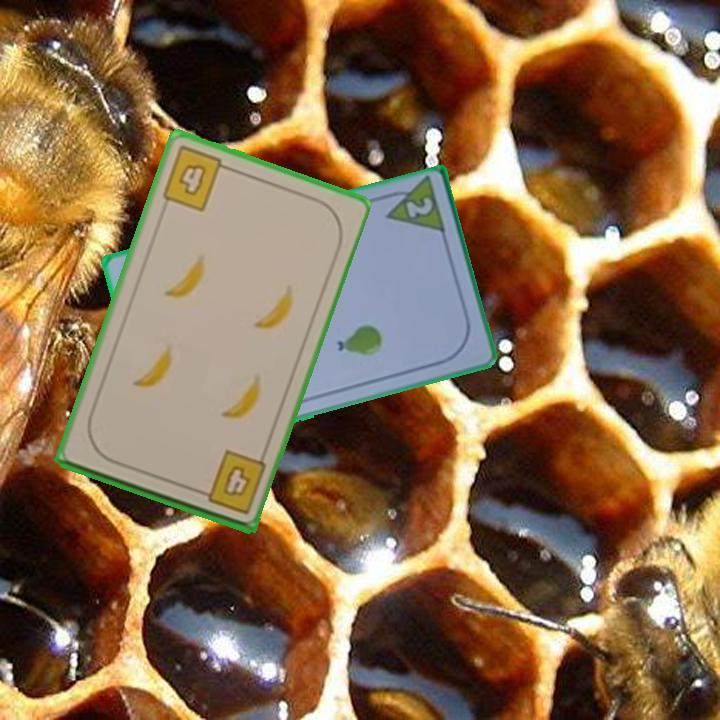2p: (402, 193, 436, 222)
4b: (158, 142, 235, 214), (191, 446, 269, 517)
